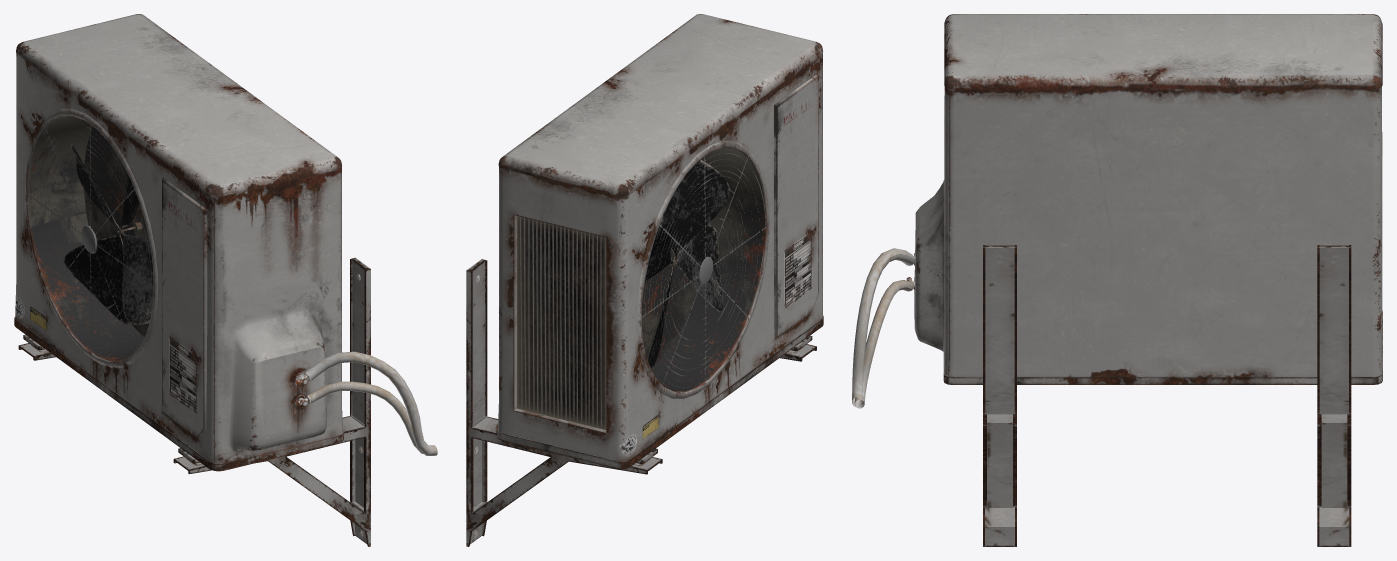
3 renders of one model, left to right at view 1: azimuth 30°, elevation 25°; view 2: azimuth 150°, elevation 25°; view 3: azimuth 270°, elevation 25°, orthographic. The views are drawn at different scales.
Parts seen in each view (by area): view 1: SM_AC_LOD0; view 2: SM_AC_LOD0; view 3: SM_AC_LOD0.
Boxes of the visible parts, bbox=[...] form: SM_AC_LOD0: bbox=[14, 14, 437, 546]; SM_AC_LOD0: bbox=[466, 14, 823, 546]; SM_AC_LOD0: bbox=[852, 14, 1382, 546].
Size of the model in its own units: 62.3 by 141 by 130.
1 material, 1 textured.
